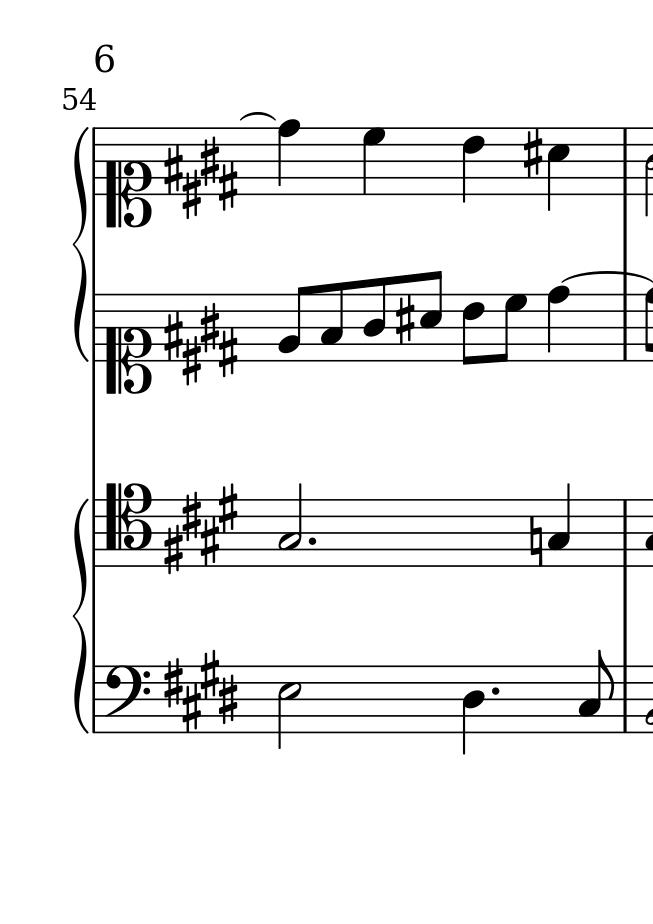2_3: (277, 480, 304, 570)
2_5: (277, 664, 303, 749)
4: (80, 87, 97, 111)
4_3: (547, 479, 574, 569)
4_4: (461, 664, 486, 757)
4_5: (547, 125, 573, 215)
4_6: (460, 125, 488, 206)
4_7: (361, 125, 385, 198)
4_8: (547, 285, 573, 365), (277, 118, 300, 196)
5: (62, 86, 79, 111)
6: (94, 43, 115, 73)
8_2: (278, 283, 313, 362)
8_3: (579, 648, 616, 735), (319, 282, 347, 364)
8_4: (363, 275, 389, 364)
8_5: (419, 269, 444, 366)
8_6: (460, 293, 487, 368)
8_7: (496, 293, 529, 364)
Brace: (72, 126, 90, 364), (71, 500, 88, 734)
E_S: (162, 484, 242, 575), (163, 125, 239, 220), (164, 292, 238, 384), (161, 649, 238, 732)
Fclef: (104, 661, 154, 735)
Natural: (527, 515, 545, 569)
Sharp: (393, 294, 416, 342), (520, 128, 542, 178)
Single_barline: (616, 665, 635, 734), (618, 293, 636, 363), (617, 499, 635, 569), (617, 127, 634, 196)
Slur: (563, 271, 653, 282), (239, 111, 275, 122)
Soprano_Cclef: (102, 290, 152, 400), (103, 127, 152, 233)
Tensor_Cclef: (106, 478, 152, 571)
dot: (303, 531, 321, 552), (487, 680, 503, 701), (489, 685, 502, 699), (304, 534, 318, 547)
